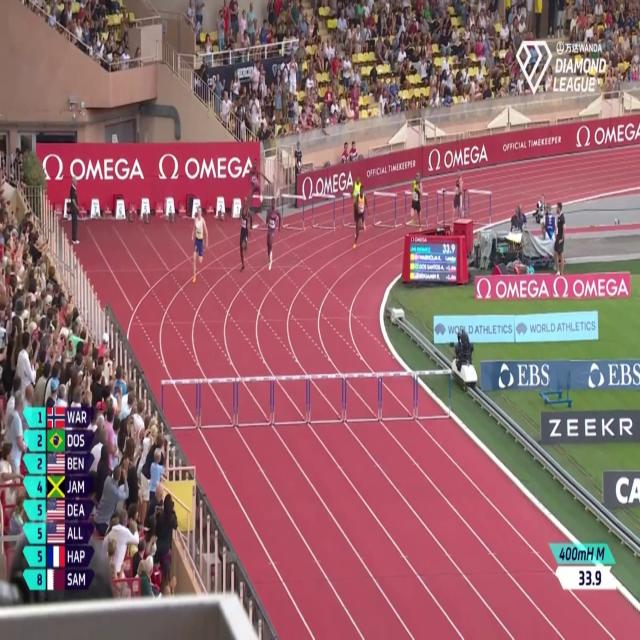athlete: (190, 198, 212, 290), (242, 157, 270, 210), (237, 196, 256, 272), (265, 196, 281, 276), (451, 164, 465, 235), (353, 187, 368, 251), (406, 166, 420, 234), (352, 175, 360, 215)
hurdle: (236, 372, 275, 431), (162, 373, 200, 432), (417, 364, 452, 426), (199, 374, 236, 429), (344, 369, 379, 426), (273, 372, 310, 425), (381, 368, 417, 422), (309, 372, 344, 423), (372, 185, 399, 233), (310, 190, 337, 233), (468, 186, 494, 226), (405, 189, 431, 227), (280, 194, 304, 232), (435, 187, 455, 227)
